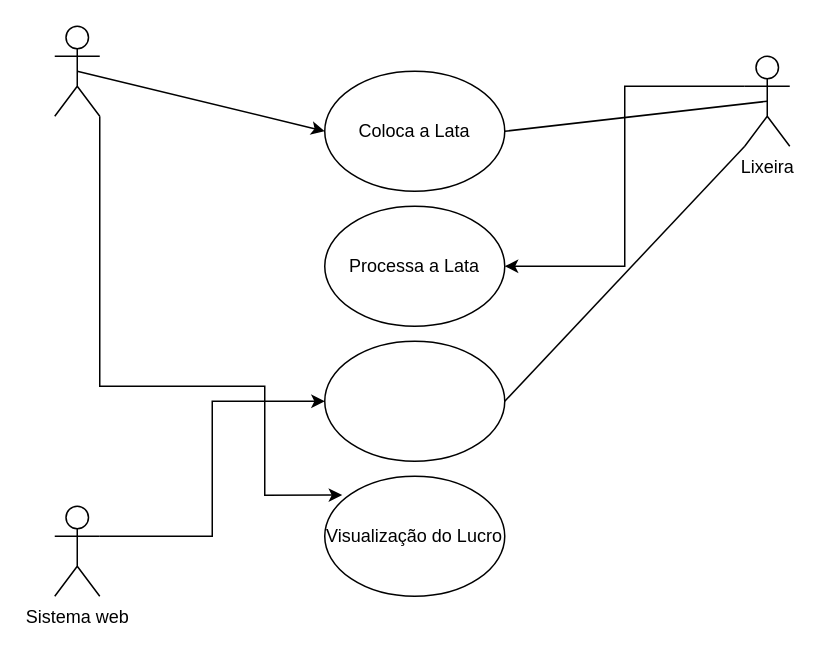
This 819x654 diagram has some shape labels left out. The box of each missing label's shape, as (x1, y1, x2, y2) in pixels:
Cliente: (53, 25, 100, 116)
Processamento dos Lucros: (323, 340, 505, 461)
